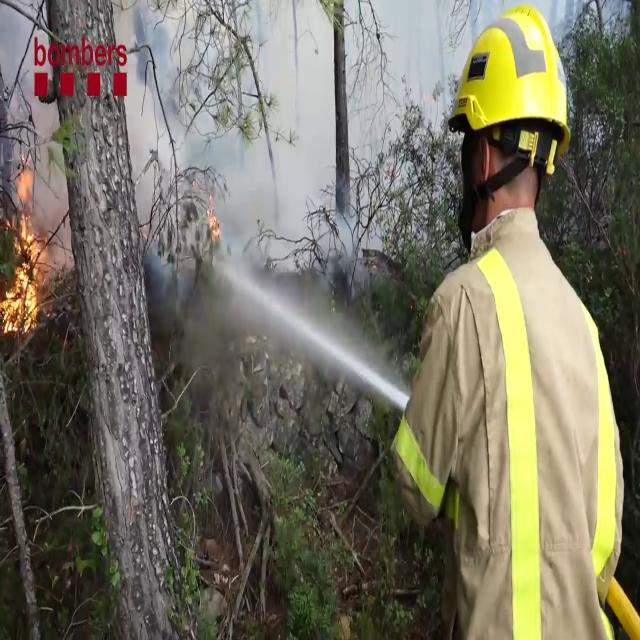Fire: (0, 161, 46, 339)
Smoke: (130, 0, 442, 242)
